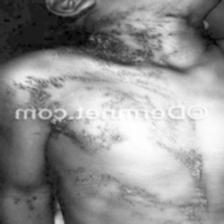Non-Cancerous Skin Condition: (65, 134, 224, 223), (2, 65, 174, 107), (104, 12, 180, 63), (2, 160, 46, 224)
